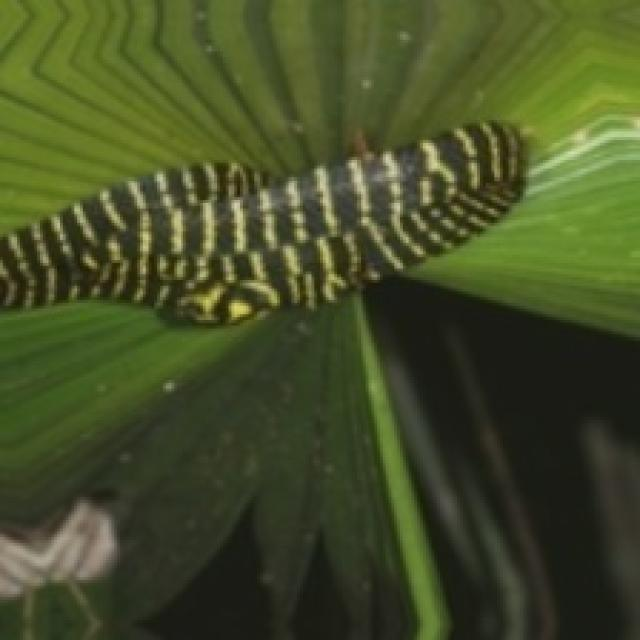mangrove cat snake: (0, 123, 523, 323)
